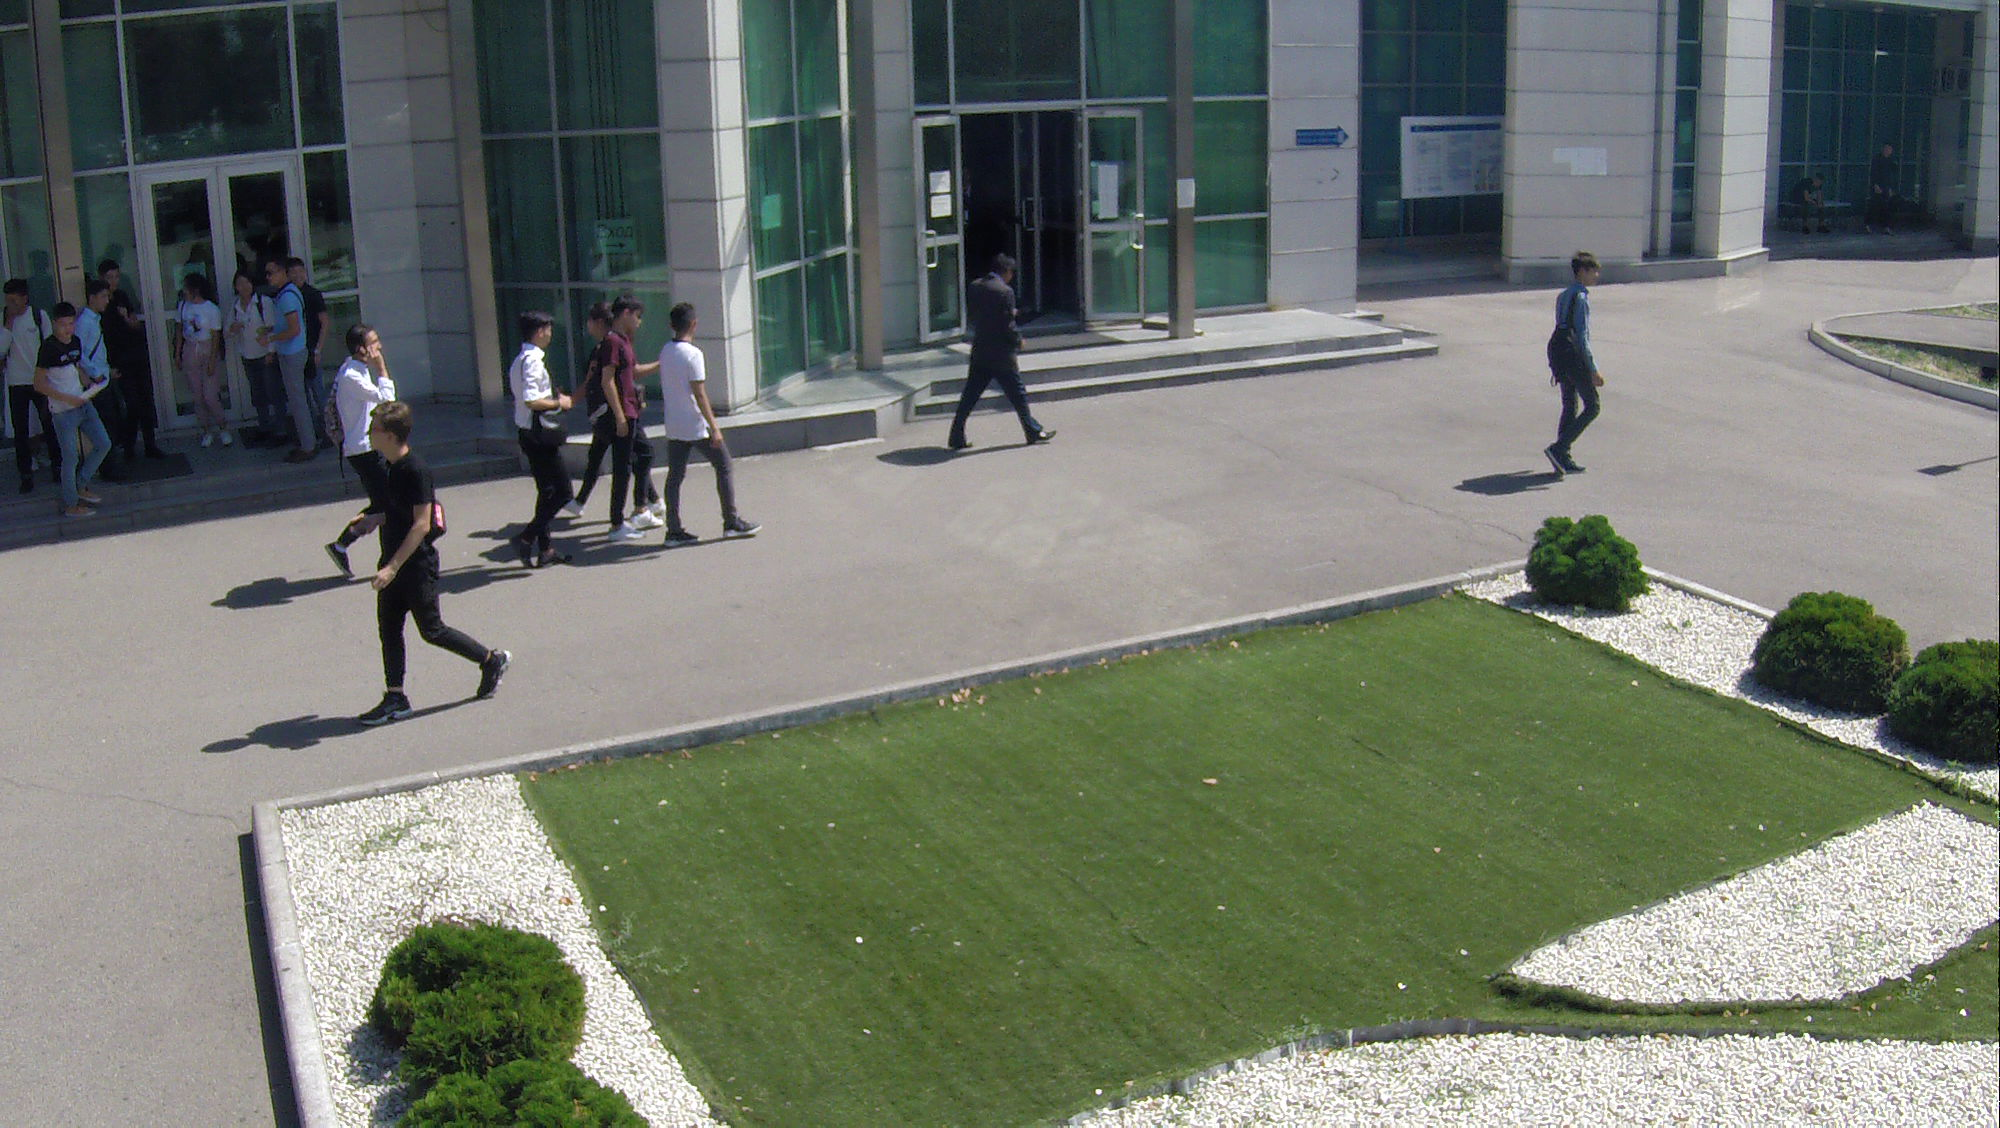person: (363, 396, 505, 730), (648, 291, 759, 566), (941, 245, 1058, 455), (506, 310, 580, 589), (1529, 239, 1613, 483), (328, 314, 394, 590), (31, 294, 105, 533), (606, 293, 659, 551), (98, 256, 158, 466), (227, 259, 286, 458), (180, 273, 237, 460), (261, 257, 314, 458), (2, 282, 45, 503), (80, 277, 104, 378)
